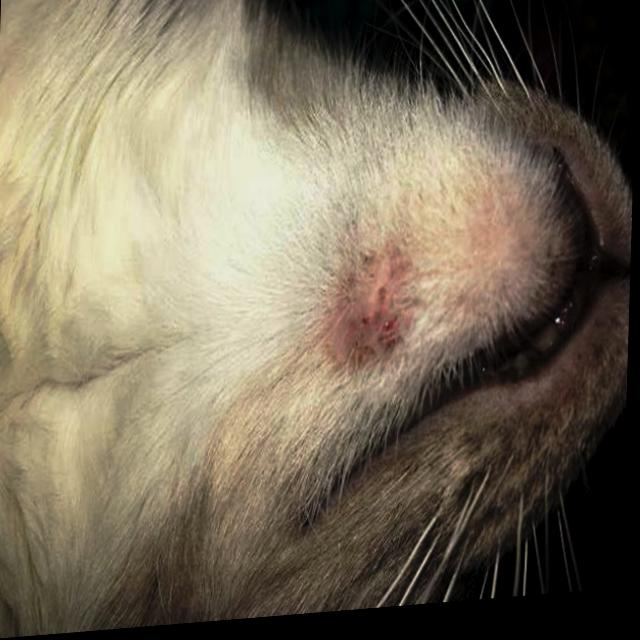acne: (328, 253, 407, 367)
